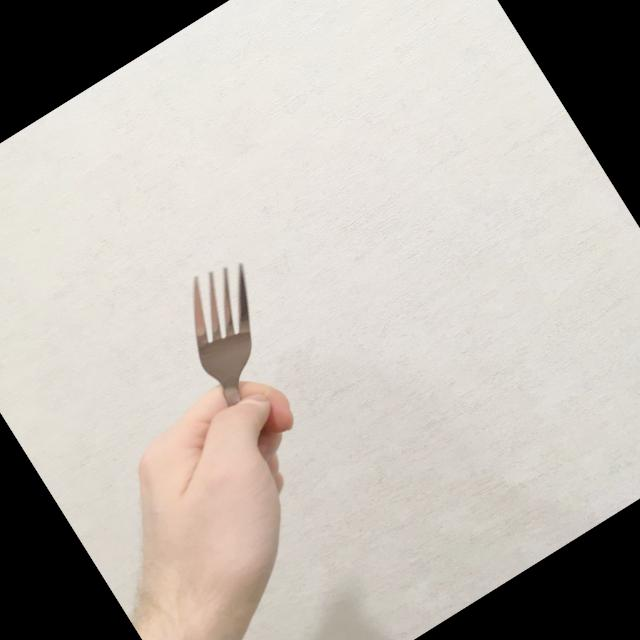fork: (155, 248, 354, 488)
